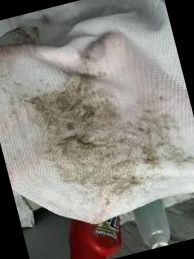earth: (27, 76, 138, 201)
